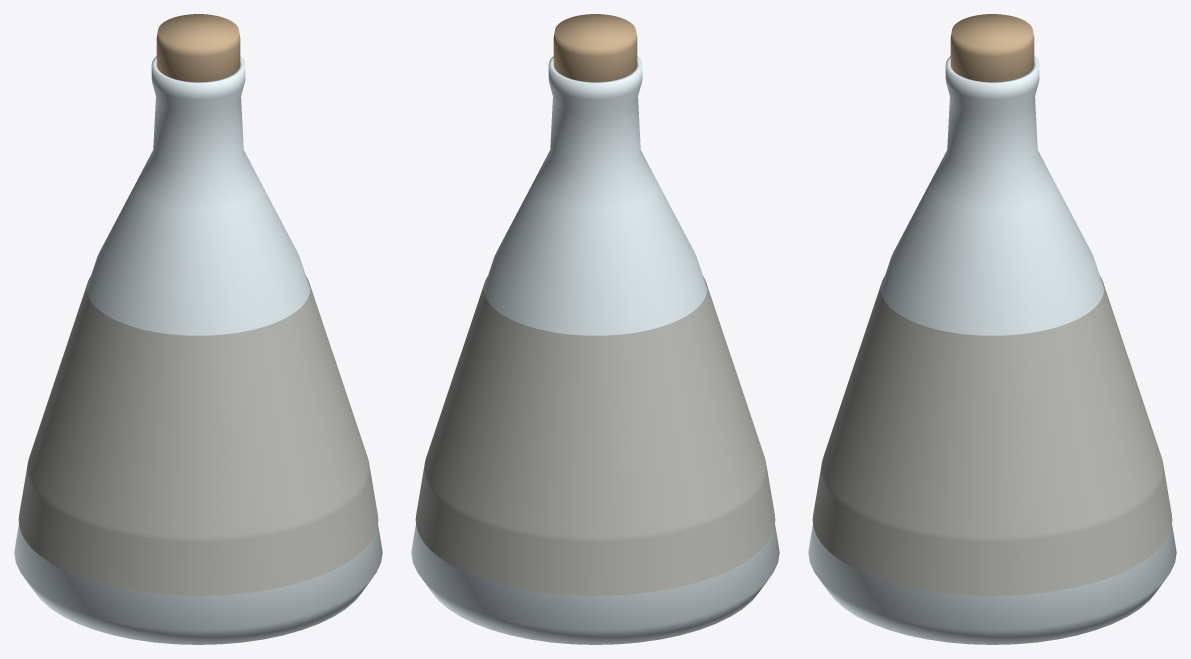
File: flask_lab_minimal.glb
The picture shows the model from 3 angles, left to right: view 1: azimuth 30°, elevation 25°; view 2: azimuth 150°, elevation 25°; view 3: azimuth 270°, elevation 25°; orthographic projection.
Visible parts, largest first — view 1: Label_band, Glass, Cap; view 2: Label_band, Glass, Cap; view 3: Label_band, Glass, Cap.
Part boxes in pixels (left/top/right/bottom): Label_band: left=18, top=276, right=378, bottom=595; Glass: left=14, top=56, right=382, bottom=644; Cap: left=156, top=14, right=240, bottom=82; Label_band: left=415, top=276, right=775, bottom=595; Glass: left=411, top=56, right=779, bottom=644; Cap: left=553, top=14, right=637, bottom=82; Label_band: left=812, top=276, right=1172, bottom=595; Glass: left=808, top=56, right=1176, bottom=644; Cap: left=950, top=14, right=1034, bottom=82.
Bounding box in the file's own units: 0.13 × 0.215 × 0.13.
